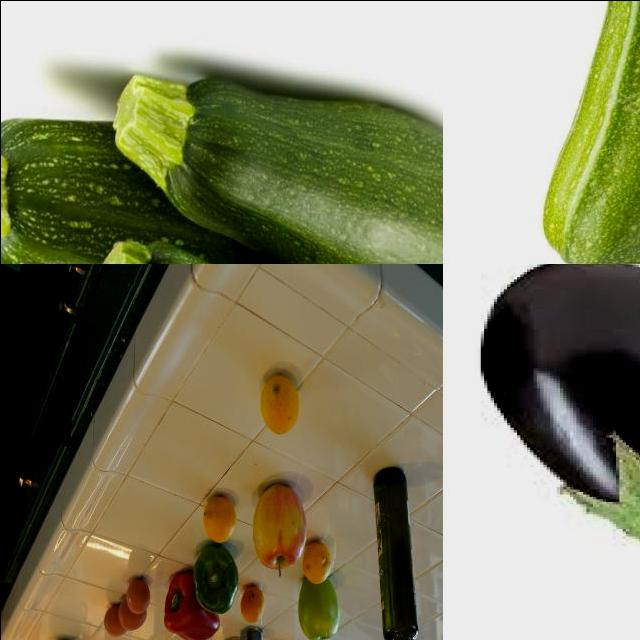bell_pepper: (188, 538, 240, 616), (162, 574, 223, 640)
egg: (113, 592, 147, 630), (122, 572, 152, 614), (102, 602, 129, 639)
eggplant: (481, 264, 640, 554)
zucchini: (546, 1, 640, 264)
